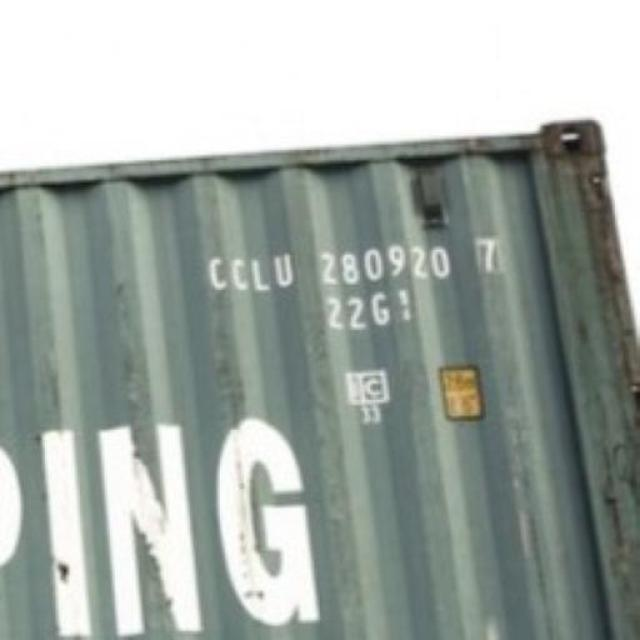ISO: (326, 290, 414, 330)
container_number: (212, 236, 498, 286)
